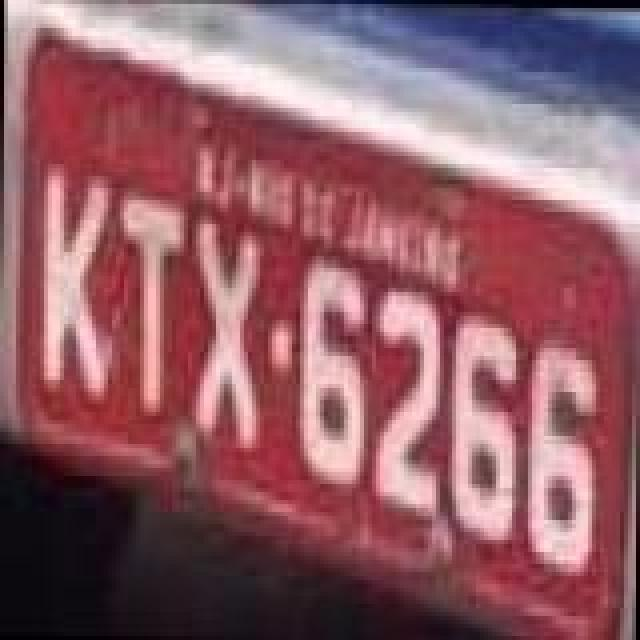2: (372, 280, 448, 512)
6: (522, 340, 602, 588), (448, 310, 524, 546), (298, 266, 374, 490)
K: (38, 166, 114, 402)
T: (114, 198, 190, 422)
X: (186, 220, 262, 452)
